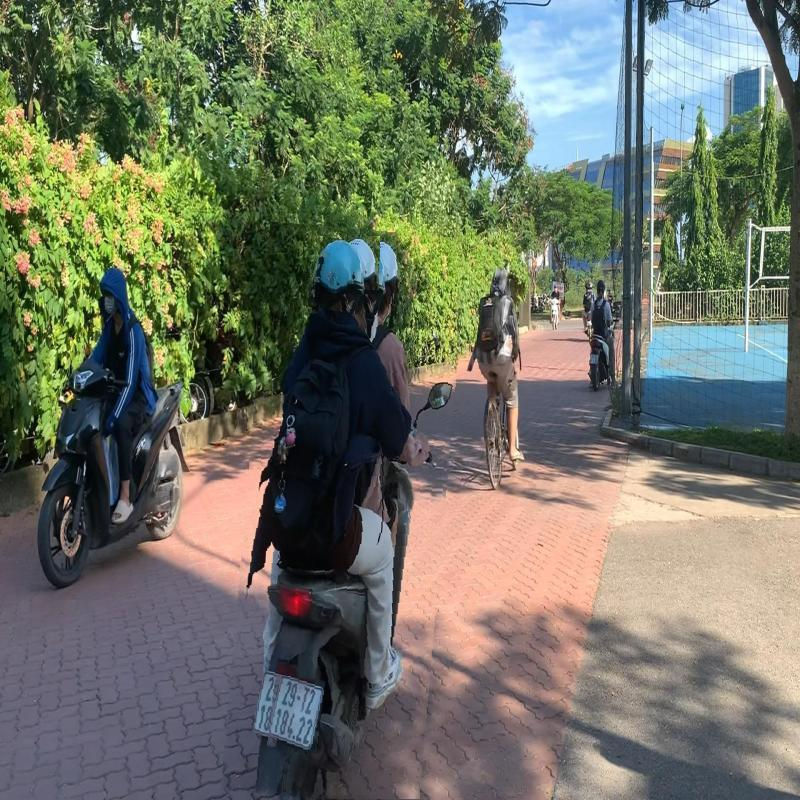helmet: (310, 238, 370, 312), (348, 235, 380, 290)
licenseplate: (270, 676, 324, 750)
motorcyclist: (232, 225, 456, 800)
